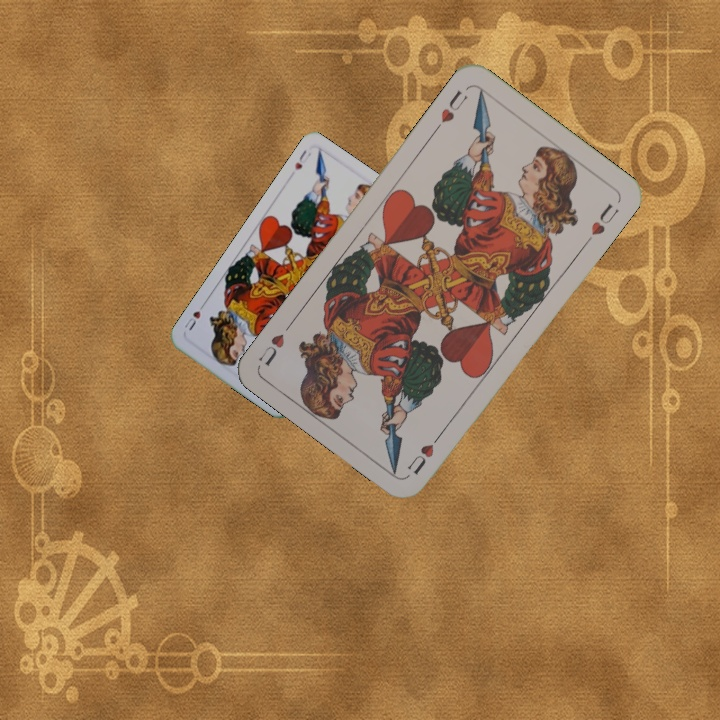HU: (403, 427, 446, 477), (430, 86, 471, 135), (291, 146, 314, 173)
